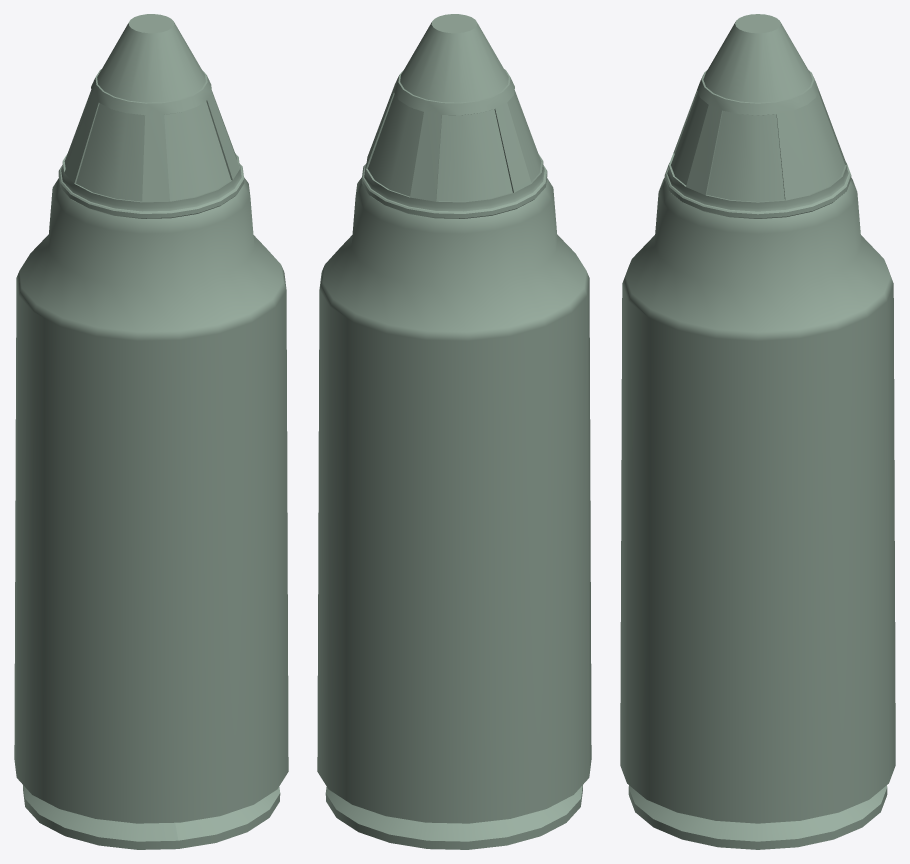
Rendered from AK_Bullet.fbx.
3 renders of one model, left to right at view 1: azimuth 30°, elevation 25°; view 2: azimuth 150°, elevation 25°; view 3: azimuth 270°, elevation 25°, orthographic.
Parts seen in each view (by area): view 1: AK_Bullet; view 2: AK_Bullet; view 3: AK_Bullet.
Boxes of the visible parts, x1=… form: AK_Bullet: x1=14, y1=14, x2=288, y2=849; AK_Bullet: x1=317, y1=14, x2=591, y2=849; AK_Bullet: x1=620, y1=14, x2=895, y2=849.
Size of the model in its own units: 13.26 by 40.99 by 13.26.
